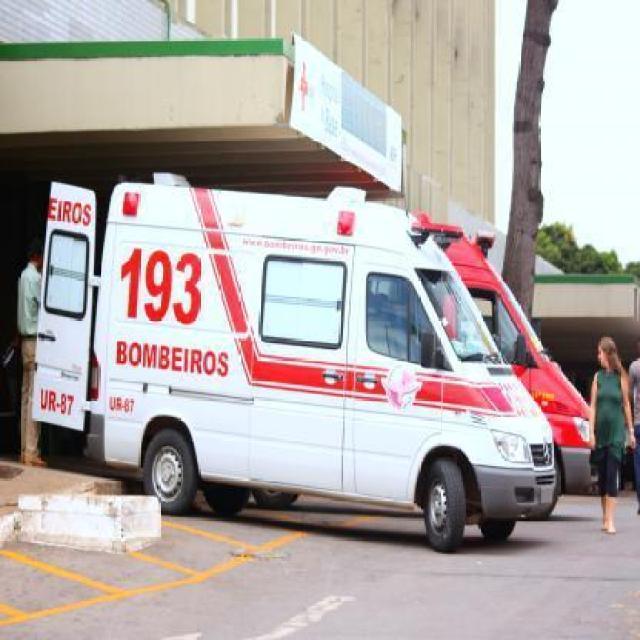emergency: (30, 172, 562, 552), (188, 213, 598, 512)
